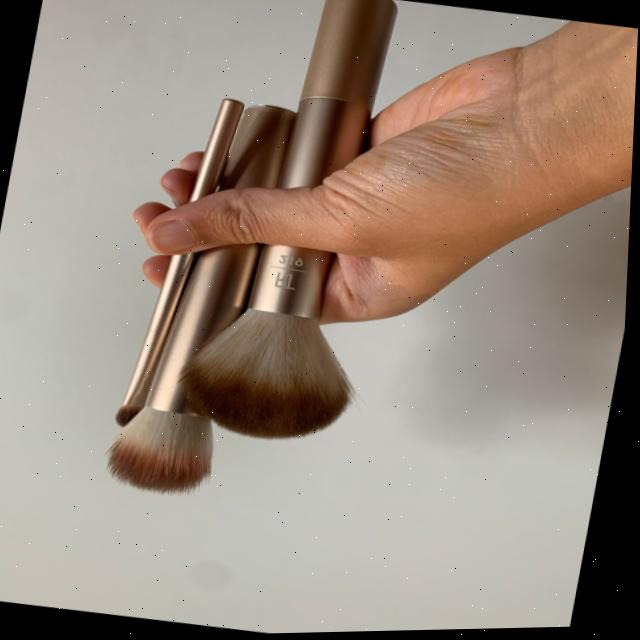brush: (60, 0, 476, 540)
